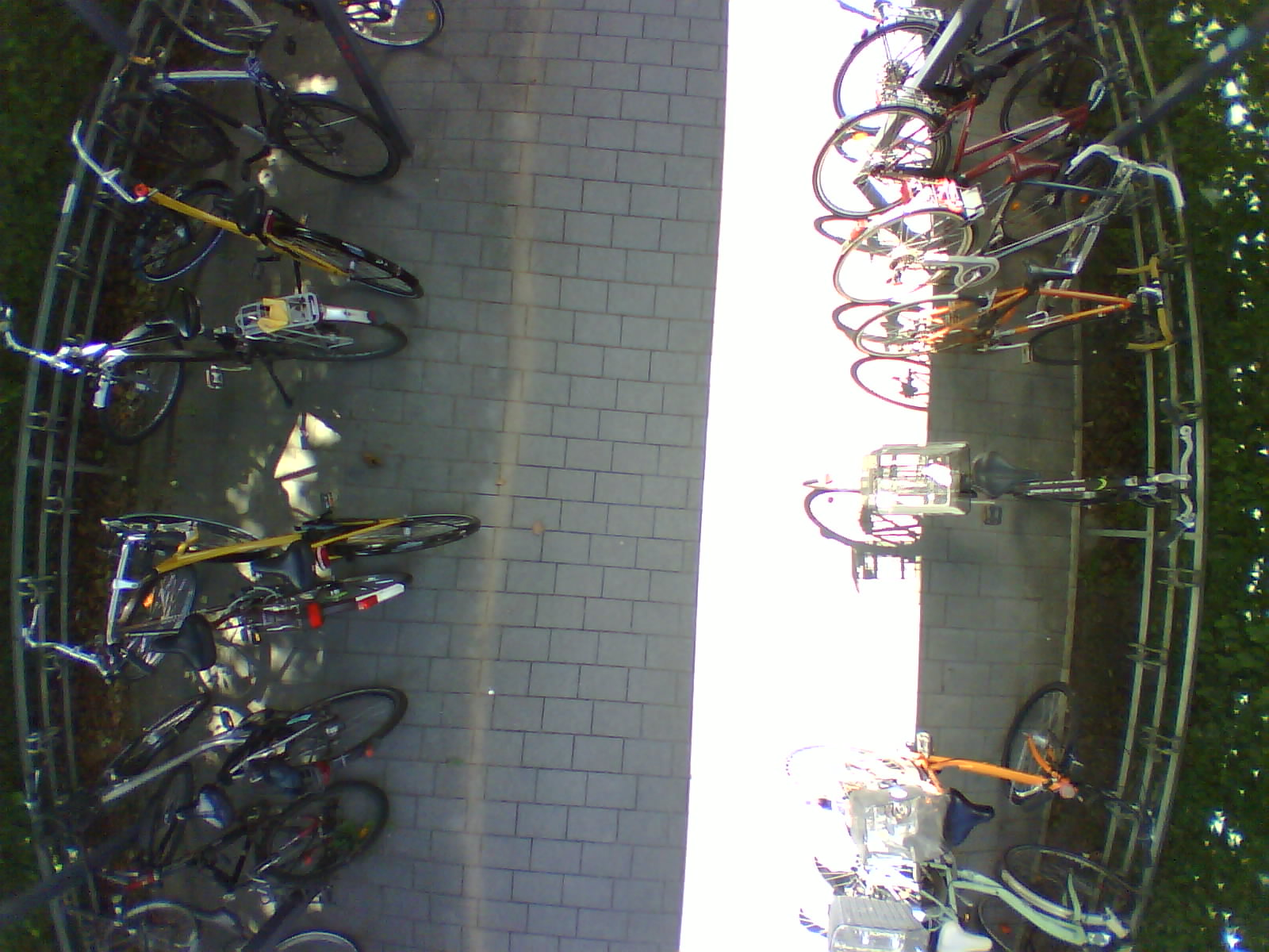bicylce: (60, 686, 408, 916), (86, 490, 482, 658), (807, 40, 1152, 221), (773, 688, 1176, 841), (830, 141, 1190, 309), (803, 400, 1200, 551), (60, 779, 389, 942), (87, 18, 404, 186), (73, 292, 407, 446), (60, 567, 416, 696), (848, 248, 1187, 367), (107, 177, 425, 301), (830, 0, 1111, 133), (800, 826, 1148, 920), (784, 887, 1135, 952)
saddle: (148, 608, 217, 670), (937, 776, 996, 848), (960, 443, 1037, 498), (134, 281, 203, 340), (247, 541, 320, 595), (171, 785, 233, 835), (206, 182, 265, 232), (1001, 141, 1061, 186), (1016, 245, 1076, 290), (952, 38, 1006, 86), (934, 912, 991, 952), (219, 15, 282, 50), (187, 900, 246, 935)
